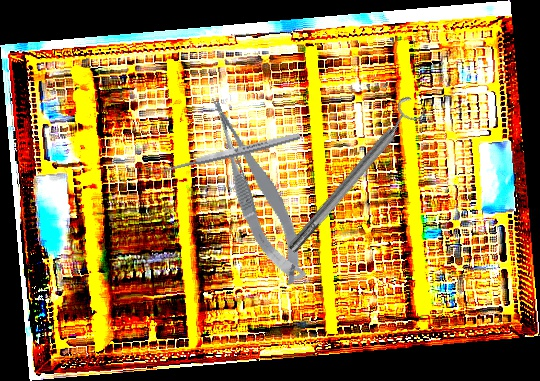Fixation Ring: (278, 93, 429, 259)
Micro Scissor: (202, 86, 313, 292)
Surgical Spoon: (153, 131, 301, 177)
